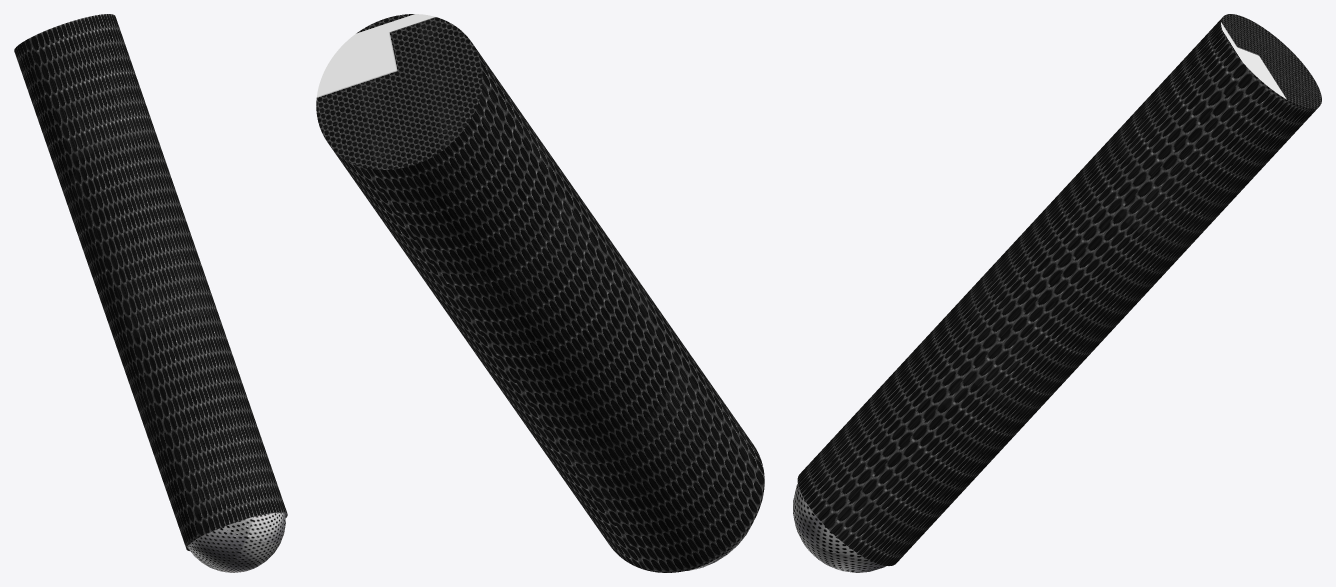
File: tool.obj
The picture shows the model from 3 angles, left to right: view 1: azimuth 30°, elevation 25°; view 2: azimuth 150°, elevation 25°; view 3: azimuth 270°, elevation 25°; orthographic projection. The views are drawn at different scales.
Parts seen in each view (by area): view 1: Cylinder.001; view 2: Cylinder.001; view 3: Cylinder.001.
Boxes of the visible parts, x1,y1,x2,y2 form: Cylinder.001: (14,14,287,572); Cylinder.001: (316,14,764,572); Cylinder.001: (793,14,1321,572).
Size of the model in its own units: 2 by 9.11 by 8.03.
